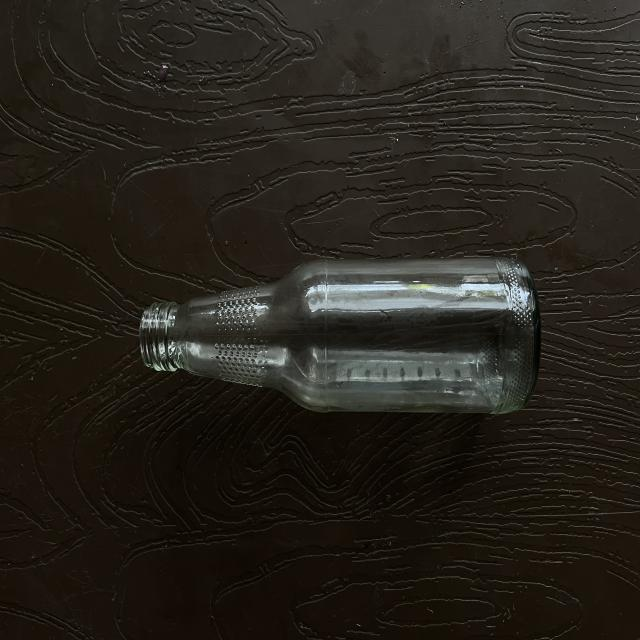Glass_Bottle: (140, 258, 540, 413)
